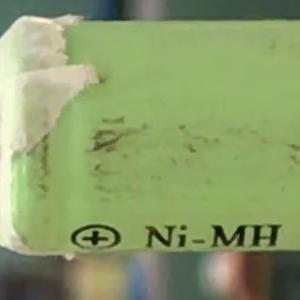NI-MH: (112, 214, 291, 270)
